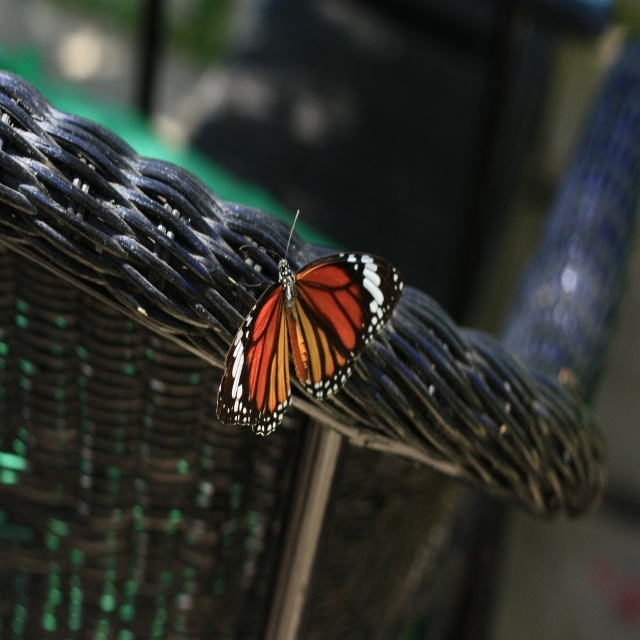Butterfly: (212, 212, 408, 443)
